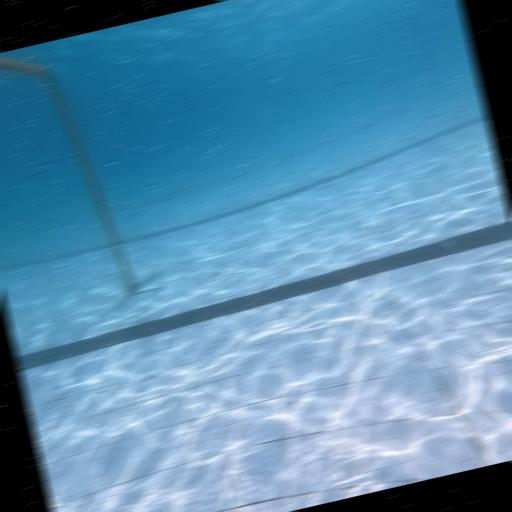gate: (0, 28, 164, 318)
